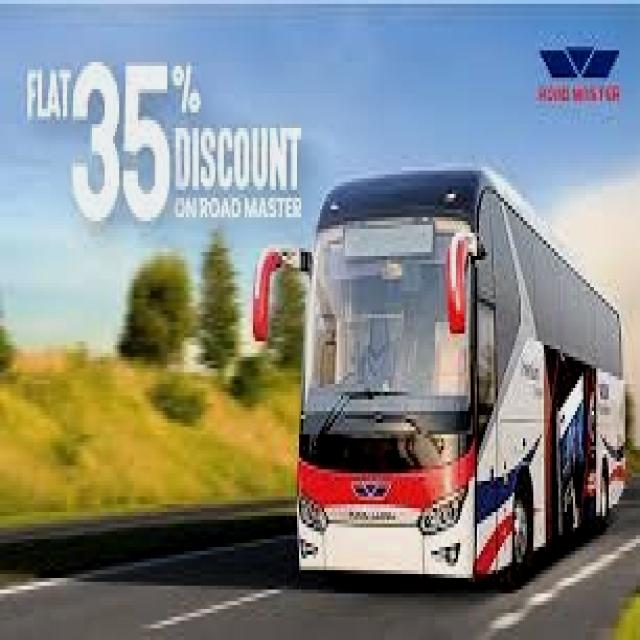bus: (301, 145, 635, 602)
